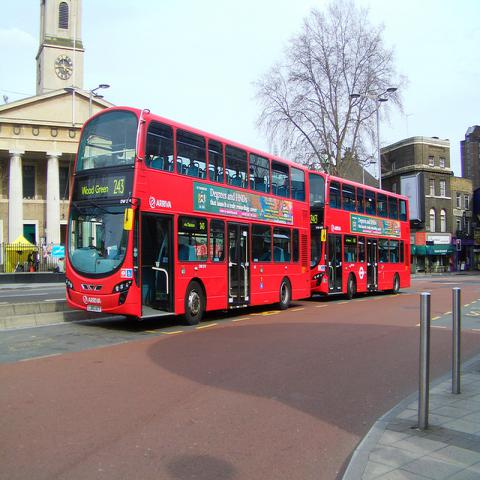bus: (65, 105, 312, 322), (312, 170, 414, 299)
